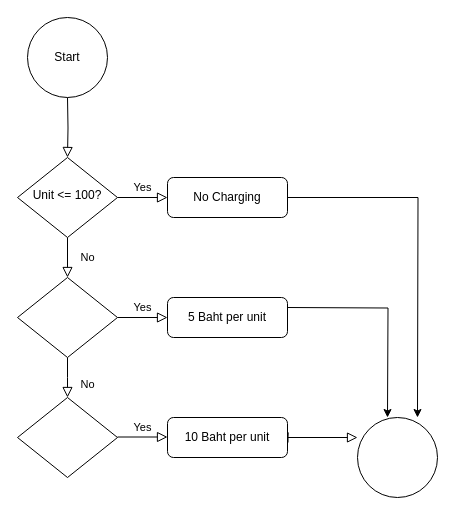
Some shapes in this 455 by 515 pixel diagram are drawn without their labels. The shapes that lost their labels are listed below. From the top down, each one's centre as x and y in pixels, then its label:
the point at 67,317: Unit >= 100?
the point at 67,437: Unit >= 200?
the point at 397,457: End
